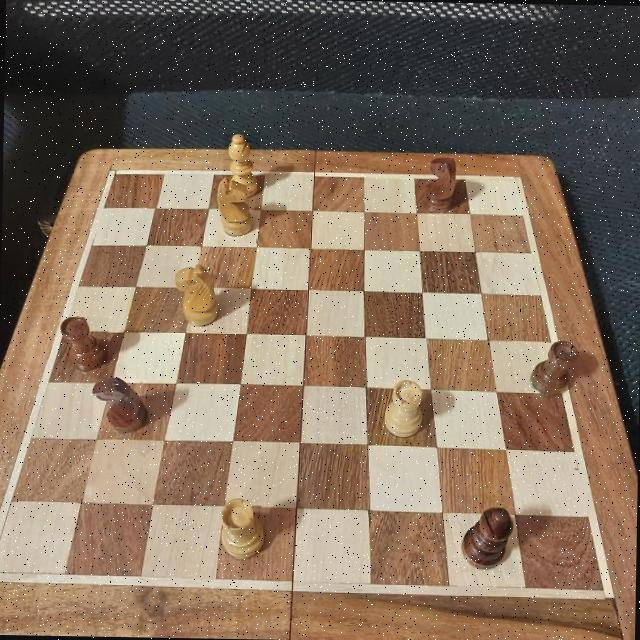black-camel: (460, 494, 520, 572)
black-elephant: (59, 317, 108, 380), (532, 332, 579, 393)
black-horse: (92, 378, 145, 432), (414, 156, 466, 208)
white-camel: (222, 132, 260, 180)
white-elephant: (380, 381, 426, 440), (223, 498, 262, 558)
white-horse: (164, 266, 222, 324), (215, 180, 258, 243)
